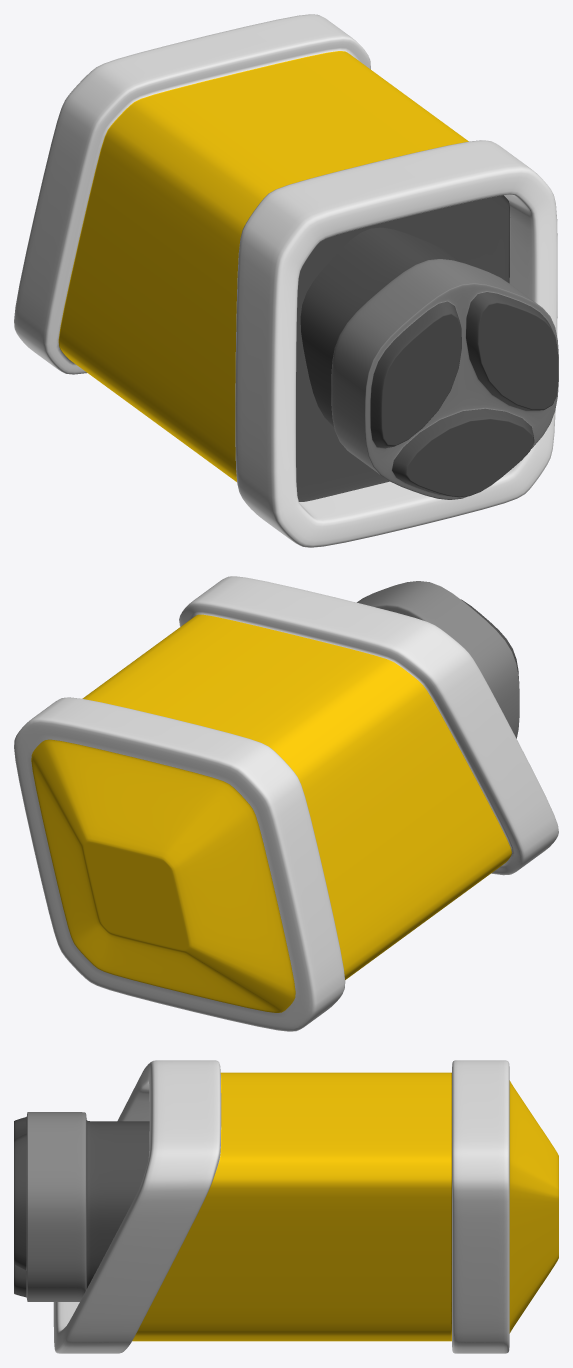
The model's file is SB_Player_Mech_Missile_WithMaterials.fbx.
3 views of the same model, one above another, from view 1: azimuth 30°, elevation 25°; view 2: azimuth 150°, elevation 25°; view 3: azimuth 270°, elevation 25° (orthographic). The views are drawn at different scales.
Visible parts, largest first — view 1: Arms, Rocket Pod; view 2: Arms, Rocket Pod; view 3: Arms, Rocket Pod.
Part boxes in pixels (x1,y1,x2,y2): Arms: [14, 14, 557, 547]; Rocket Pod: [300, 227, 558, 499]; Arms: [14, 576, 558, 1031]; Rocket Pod: [357, 581, 519, 738]; Arms: [53, 1060, 558, 1353]; Rocket Pod: [14, 1112, 149, 1301].
Bounding box in the file's own units: 96.73 × 79.43 × 166.
